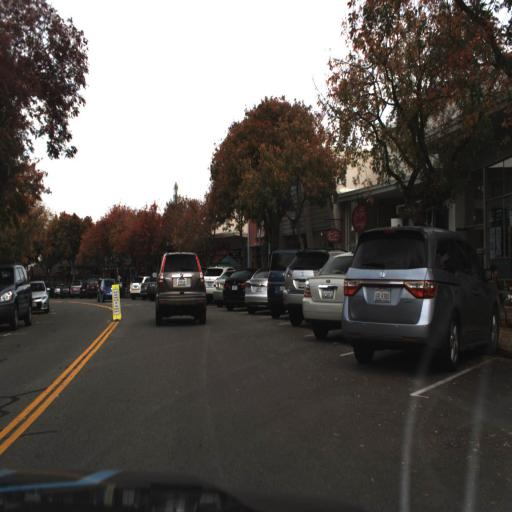car: (339, 221, 502, 378), (282, 244, 343, 325), (300, 247, 351, 343), (152, 250, 208, 329), (0, 262, 33, 326), (266, 246, 290, 318), (222, 268, 252, 310), (242, 266, 268, 312), (202, 265, 228, 302), (28, 279, 49, 313), (213, 268, 231, 304), (97, 278, 121, 300)
